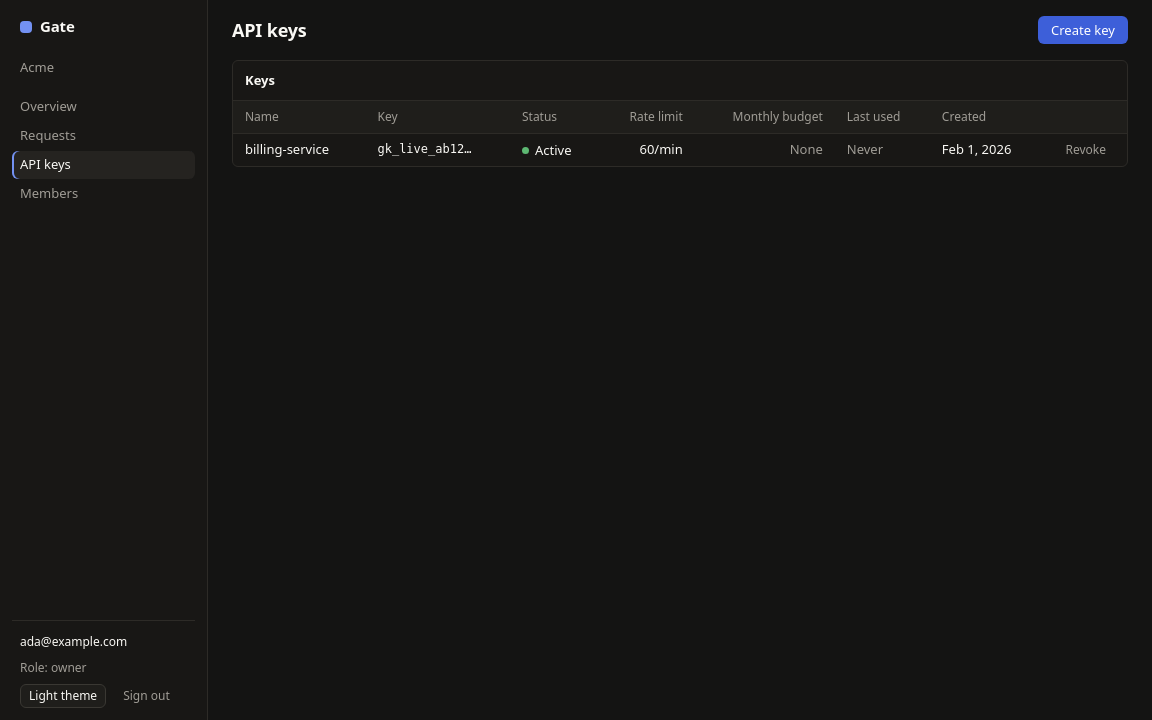
Test: API keys: revoke › revokes on confirmation and refreshes the list
Click the button with aria-label "Revoke billing-service".
click(1086, 150)  # box [1056,138,1115,162]
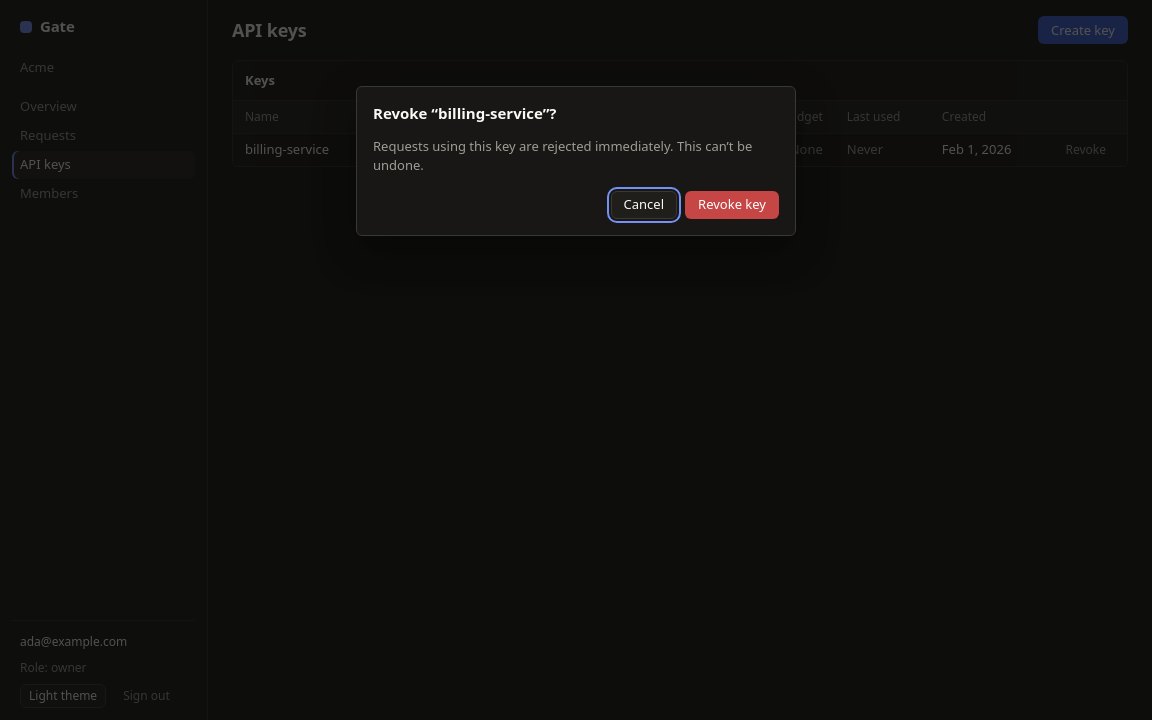
Click the button "Revoke key".
click(732, 205)  # box [685,191,779,219]
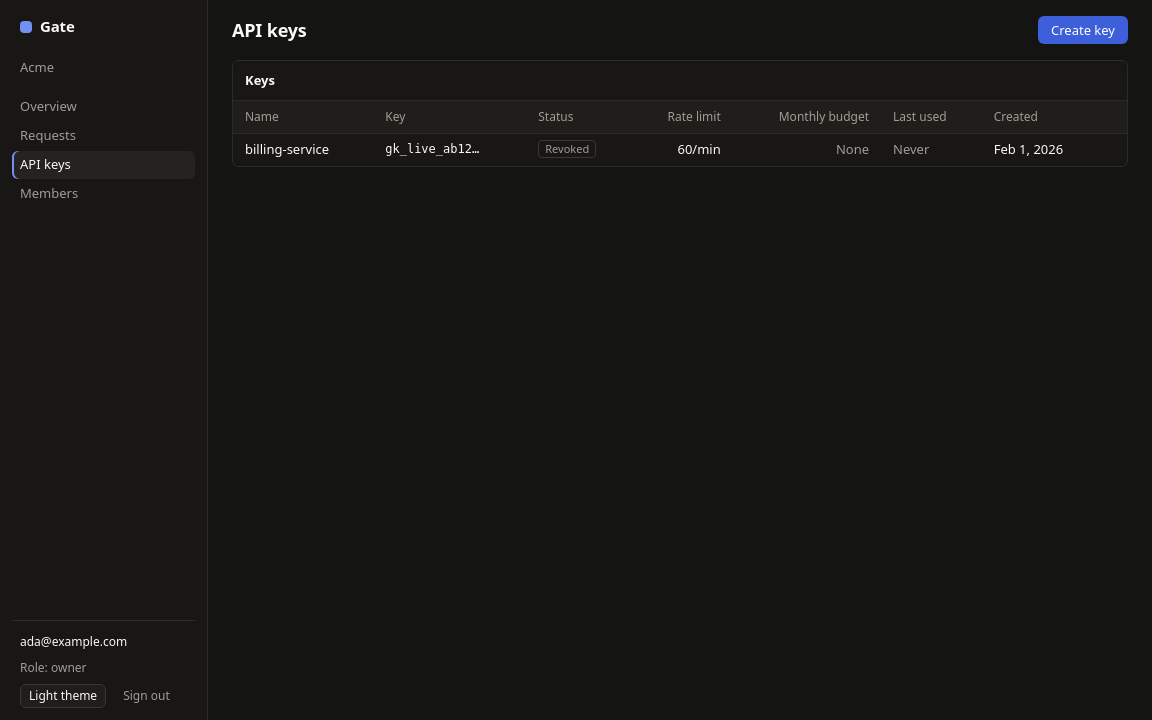
Check: the text "Revoked" is shown, box [538,140,596,158]
Check: the dialog is gone
